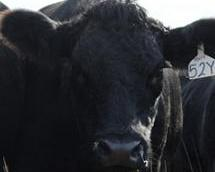muzzles: (87, 132, 149, 170)
